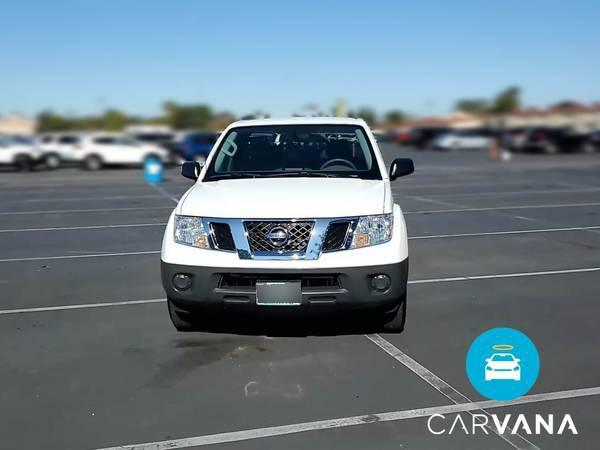Front_Bumper: (158, 208, 408, 310)
Front_Windshield: (197, 125, 387, 183)
Grille: (201, 215, 358, 259)
Hood: (173, 178, 395, 219)
Left_Headlight: (346, 211, 396, 250)
Left_Mirror: (389, 156, 415, 184)
Right_Headlight: (172, 214, 213, 249)
Right_Mirror: (181, 160, 201, 181)
Roof: (227, 115, 363, 127)
